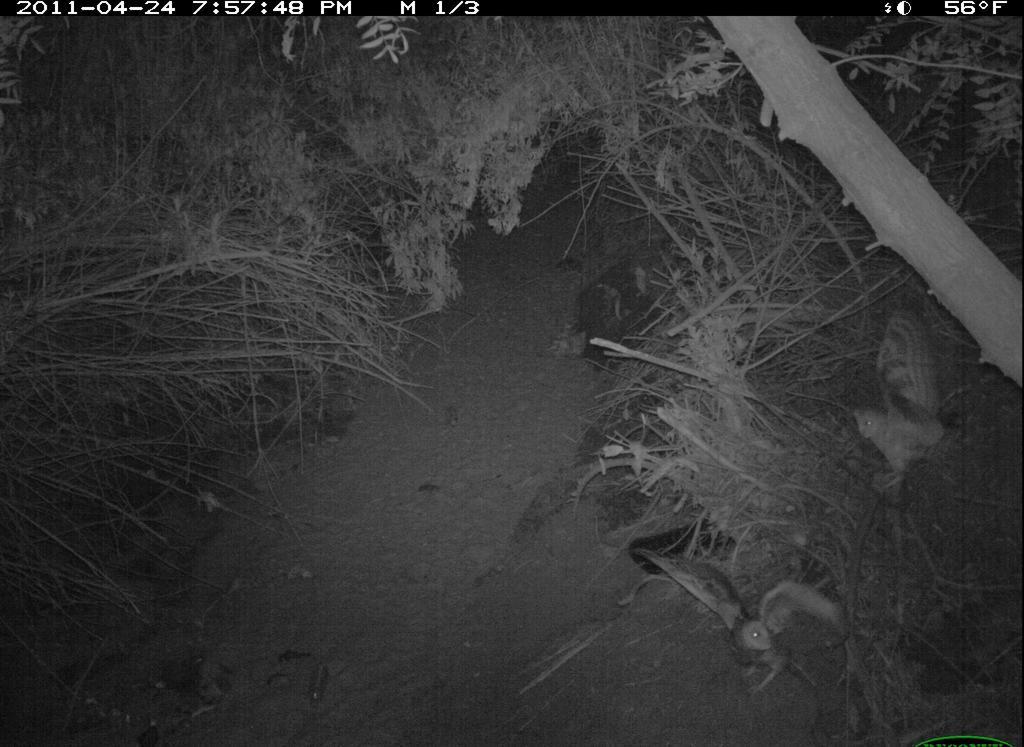bird: (632, 532, 853, 710), (850, 297, 985, 507)
